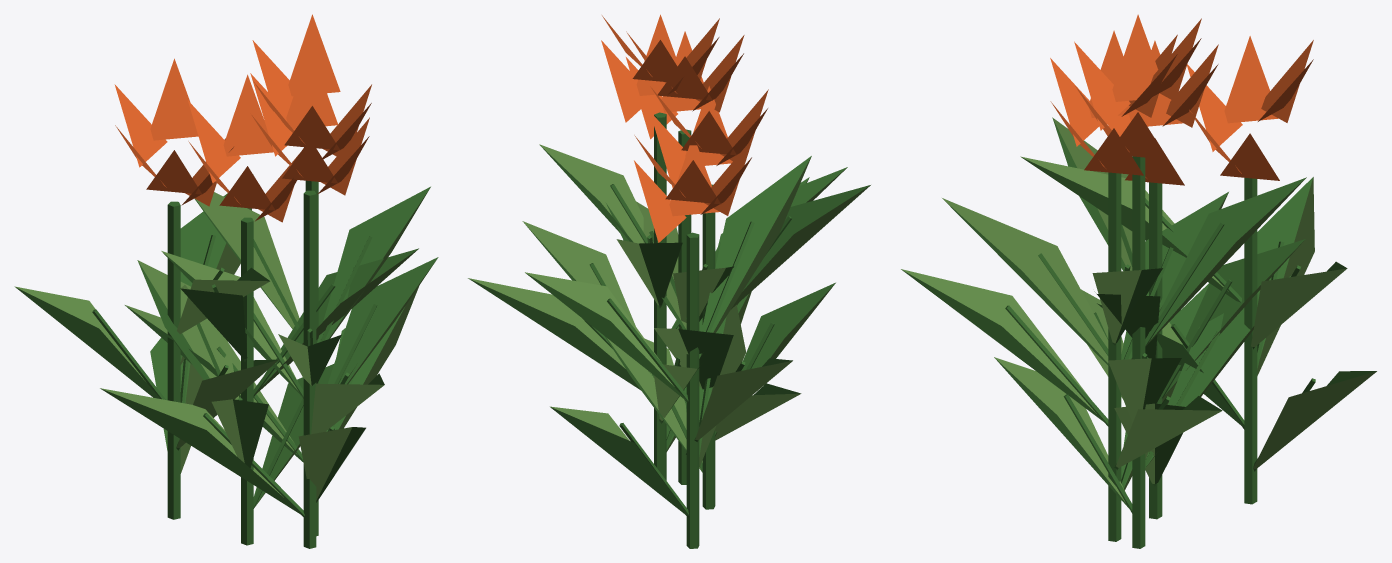
Rendered from canna_orange.glb.
3 views of the same model, side by side, from view 1: azimuth 30°, elevation 25°; view 2: azimuth 150°, elevation 25°; view 3: azimuth 270°, elevation 25° (orthographic). The views are drawn at different scales.
Parts seen in each view (by area): view 1: canna_orange; view 2: canna_orange; view 3: canna_orange.
Part boxes in pixels (box(x1,y1,x2,y2)): canna_orange: box(14, 14, 438, 548); canna_orange: box(468, 14, 870, 548); canna_orange: box(901, 14, 1376, 548).
Size of the model in its own units: 1.52 by 1.92 by 1.58.
